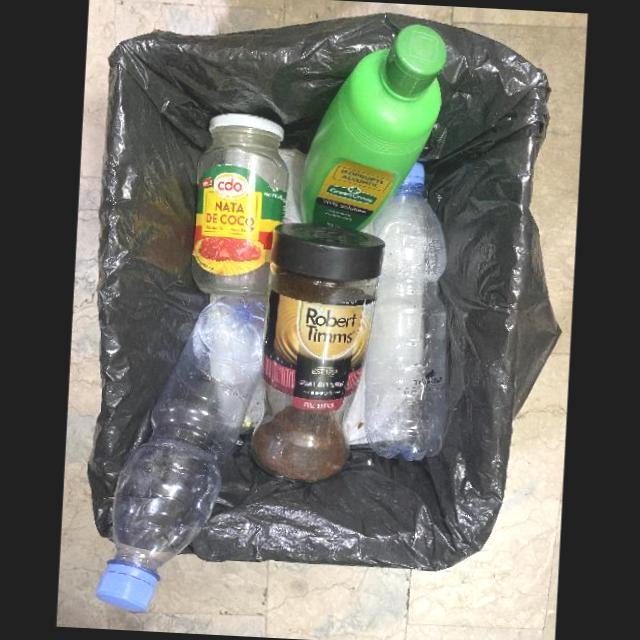chai_nhua: (298, 23, 447, 231)
chai_nhua_pet: (96, 295, 266, 612), (364, 160, 452, 460)
chai_thuy_tinh: (250, 221, 386, 481), (192, 113, 289, 302)
